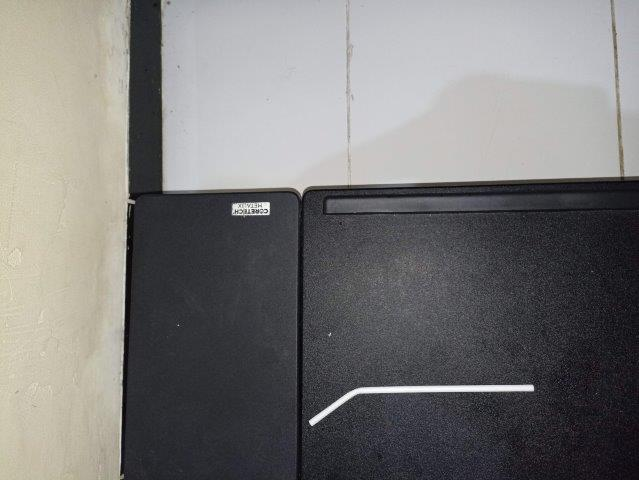sedotan: (309, 384, 535, 427)
